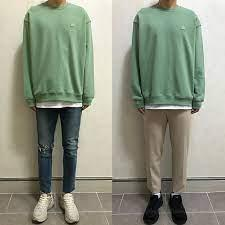pants: (34, 102, 82, 195), (143, 109, 194, 195)
sweater: (14, 1, 97, 112), (128, 4, 204, 112)
